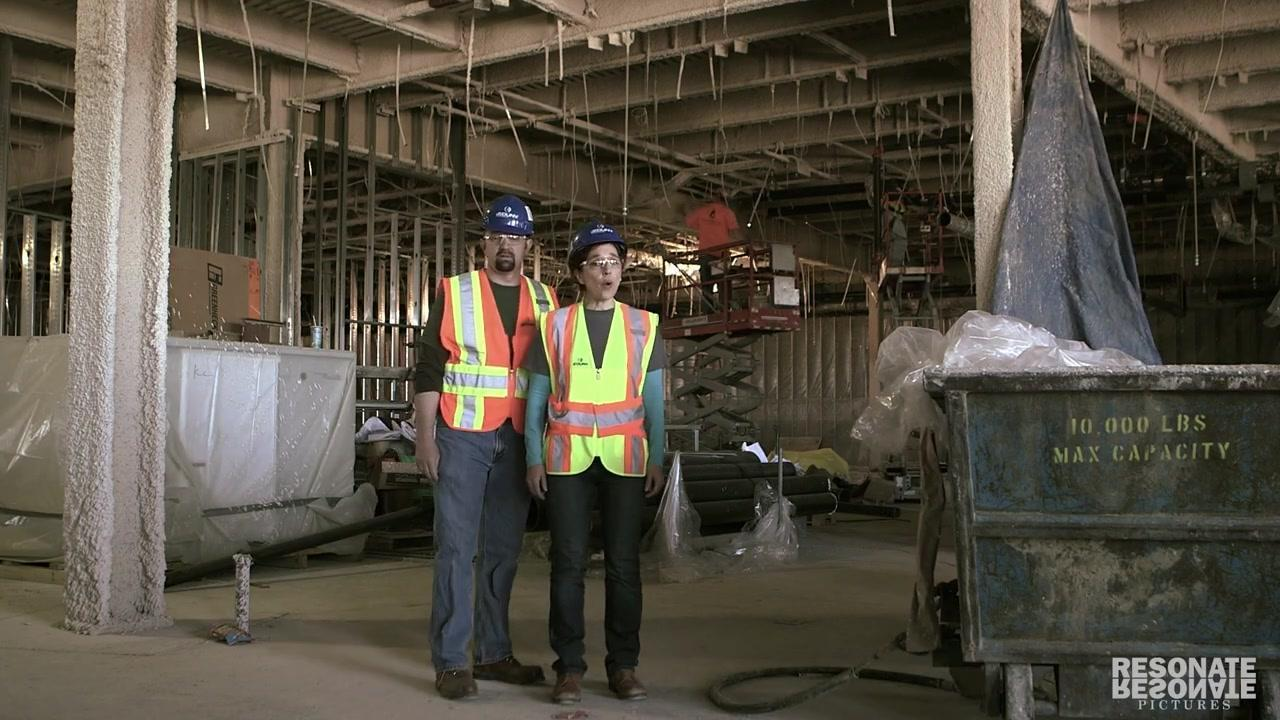vest: (534, 297, 663, 475), (433, 267, 557, 435)
